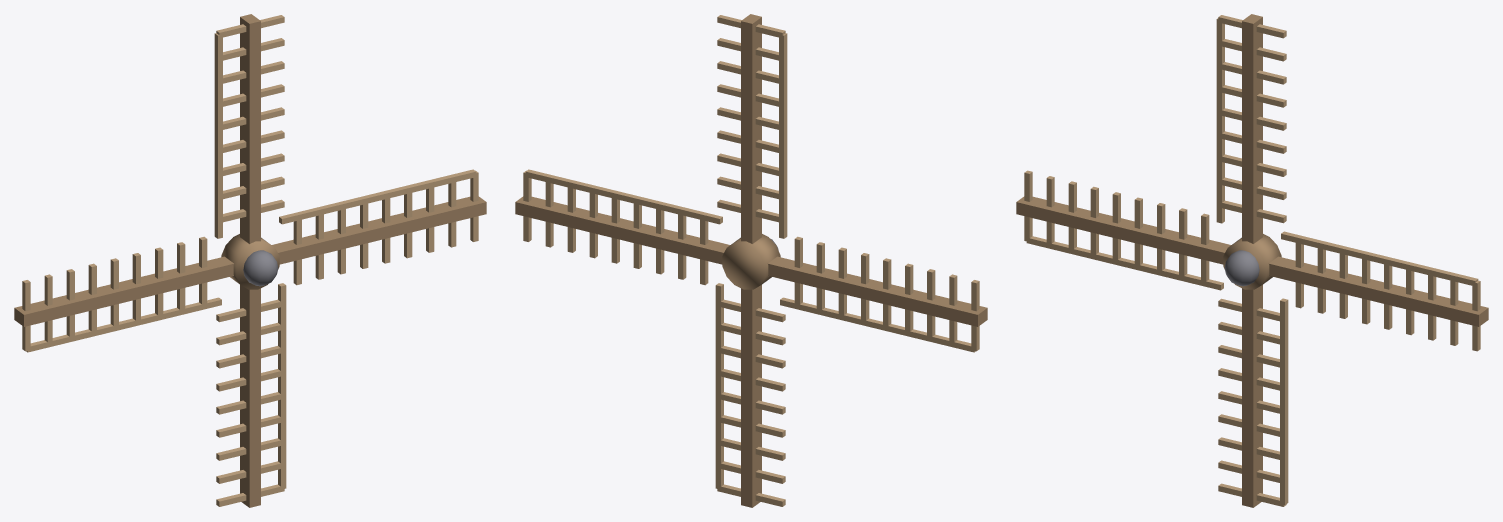
The model's file is windmill_blades.fbx.
The picture shows the model from 3 angles, left to right: view 1: azimuth 30°, elevation 25°; view 2: azimuth 150°, elevation 25°; view 3: azimuth 330°, elevation 25°; orthographic projection.
Visible parts, largest first — view 1: WindmillBlades; view 2: WindmillBlades; view 3: WindmillBlades.
Part boxes in pixels (box(x1,y1,x2,y2)): WindmillBlades: box(14, 14, 486, 507); WindmillBlades: box(515, 14, 987, 507); WindmillBlades: box(1016, 14, 1488, 507).
Bounding box in the file's own units: 8.8 × 8.8 × 0.87.
